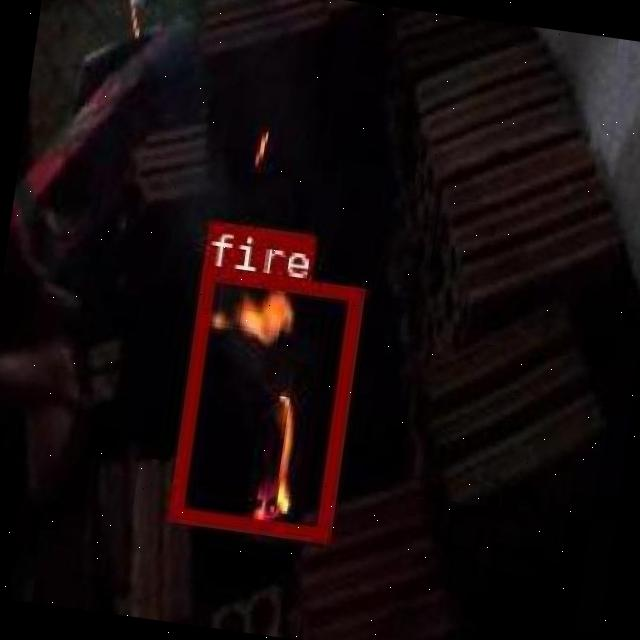fire: (167, 264, 362, 540)
